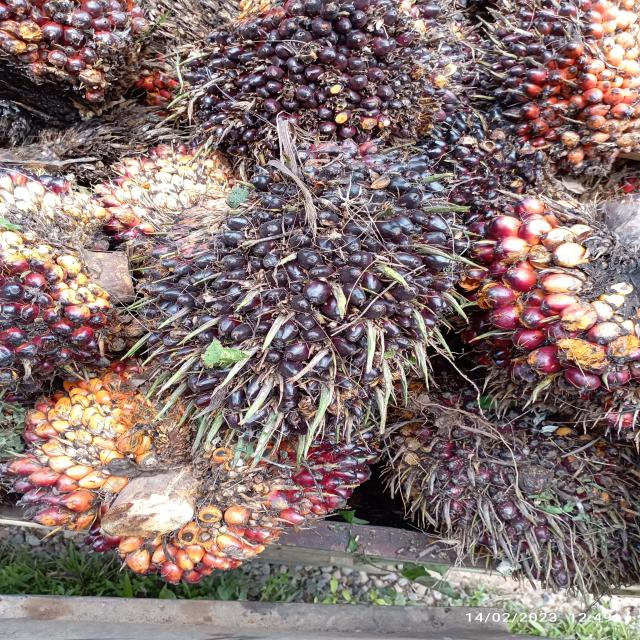fraksi 00: (177, 147, 470, 429), (190, 4, 440, 140)
